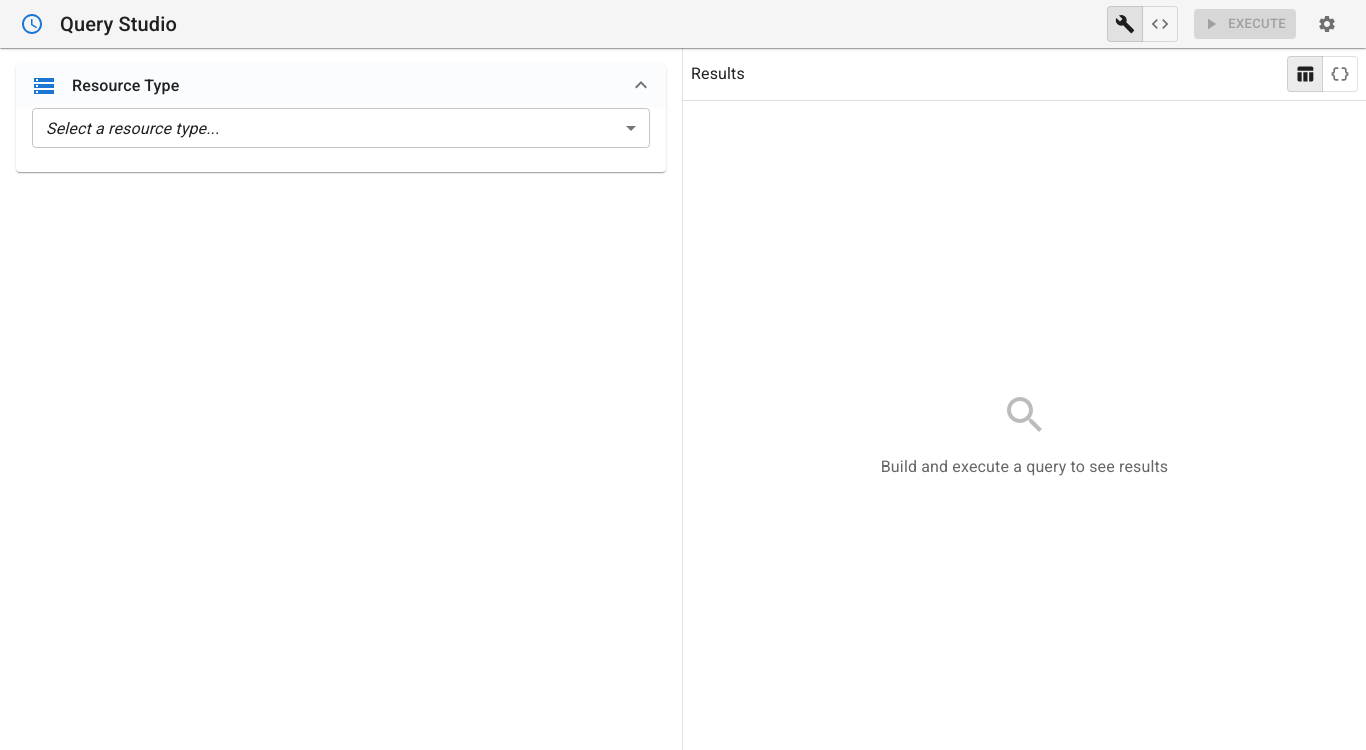
QueryStudioEnhanced › Core Functionality › resource selection works correctly
// Open resource selector
Press the mouse on the dropdown at (133, 128), box [46, 118, 219, 138]
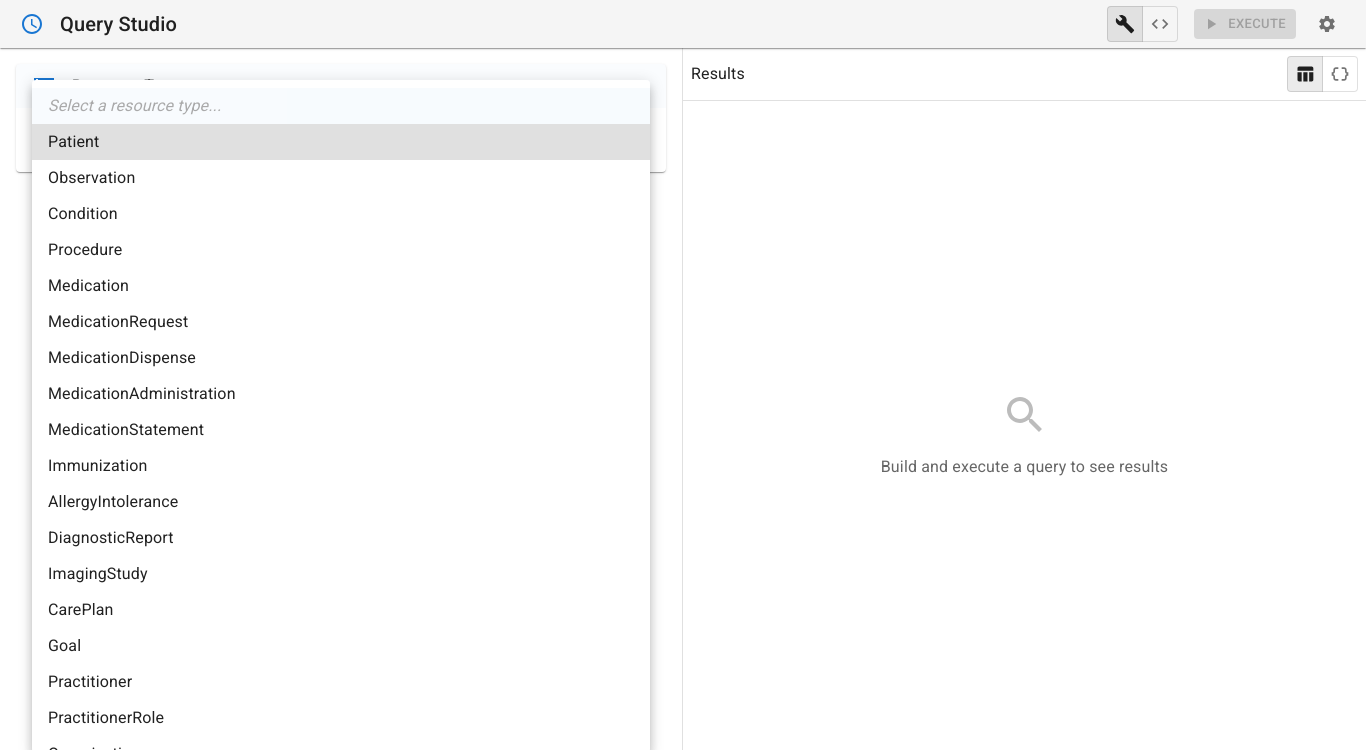
// Select Patient resource
Click the option "Patient".
click(74, 142)  # box [32, 124, 650, 160]
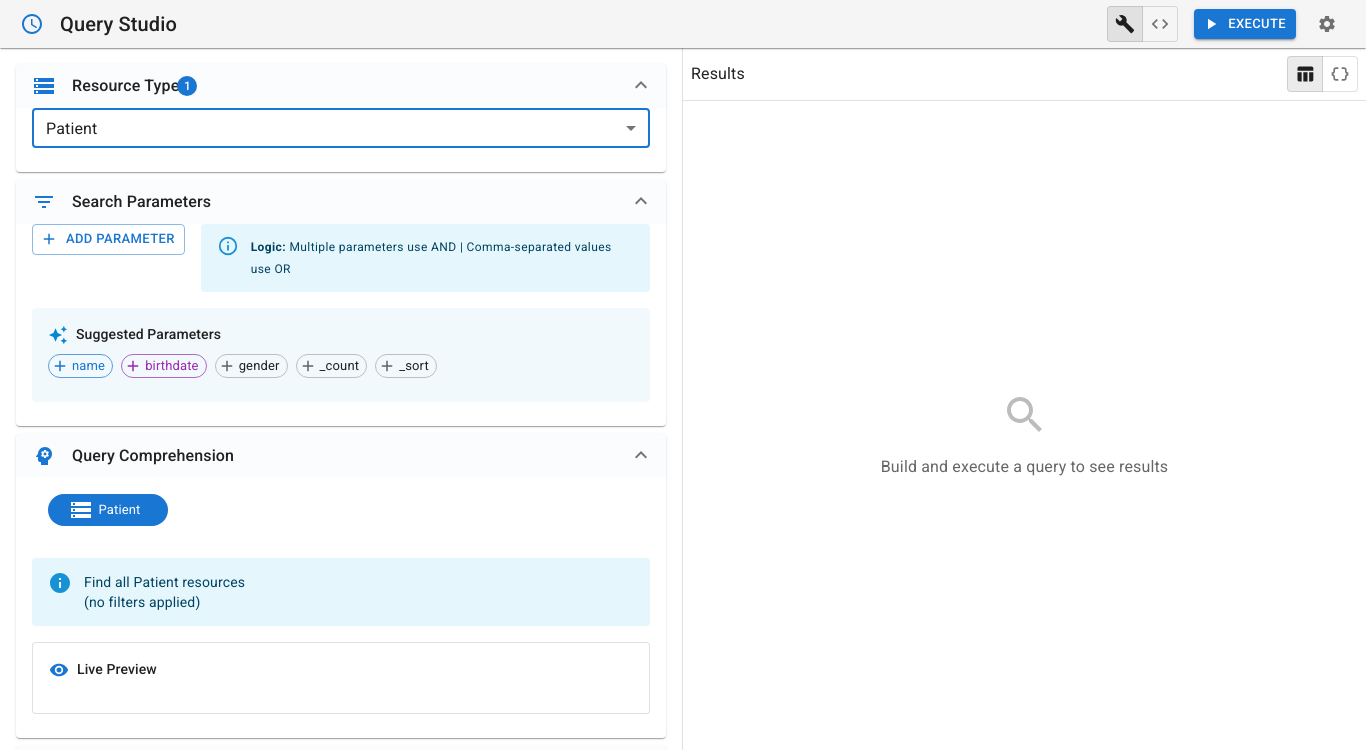
Expected: the heading "Search Parameters" is shown, [72, 188, 211, 216]
